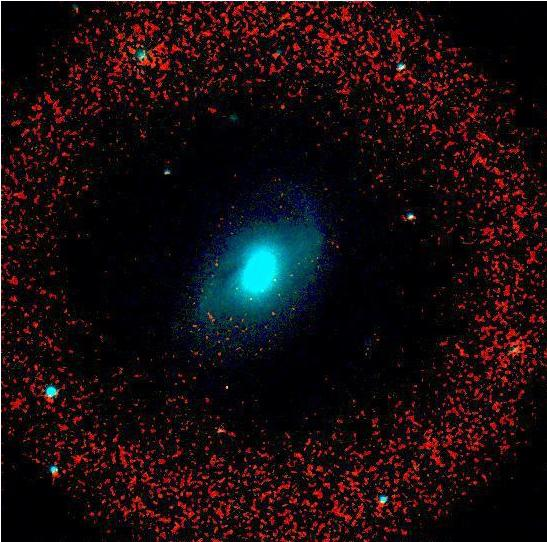star: (216, 373, 246, 403)
